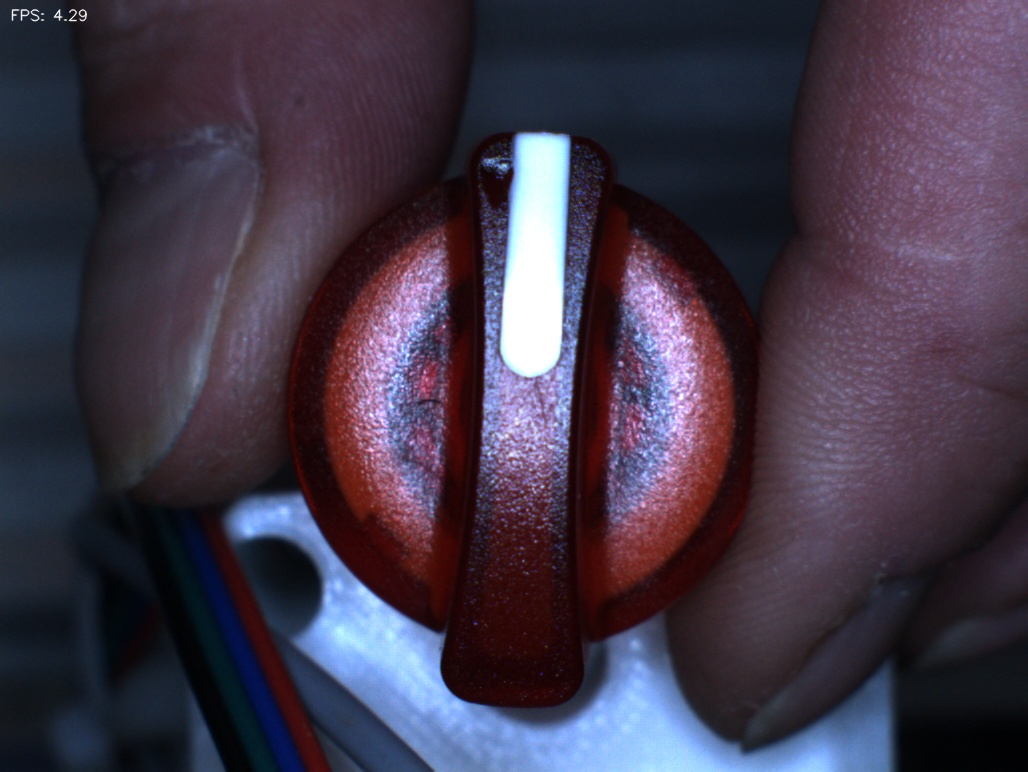Choc: (454, 136, 537, 219)
